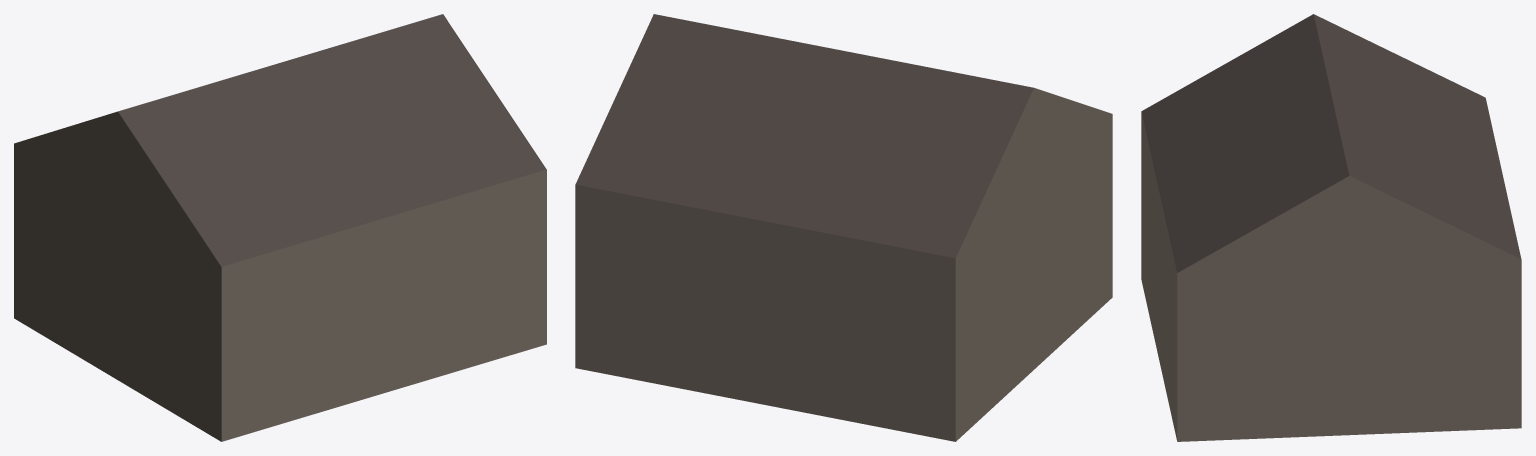
3 views of the same model, side by side, from view 1: azimuth 30°, elevation 25°; view 2: azimuth 150°, elevation 25°; view 3: azimuth 270°, elevation 25° (orthographic). The views are drawn at different scales.
Visible parts, largest first — view 1: HP-w1376988732; view 2: HP-w1376988732; view 3: HP-w1376988732.
Boxes of the visible parts, x1,y1,x2,y2 form: HP-w1376988732: (14,14,546,441); HP-w1376988732: (575,14,1112,441); HP-w1376988732: (1141,14,1521,441).
Size of the model in its own units: 13.38 by 9.21 by 12.24.
